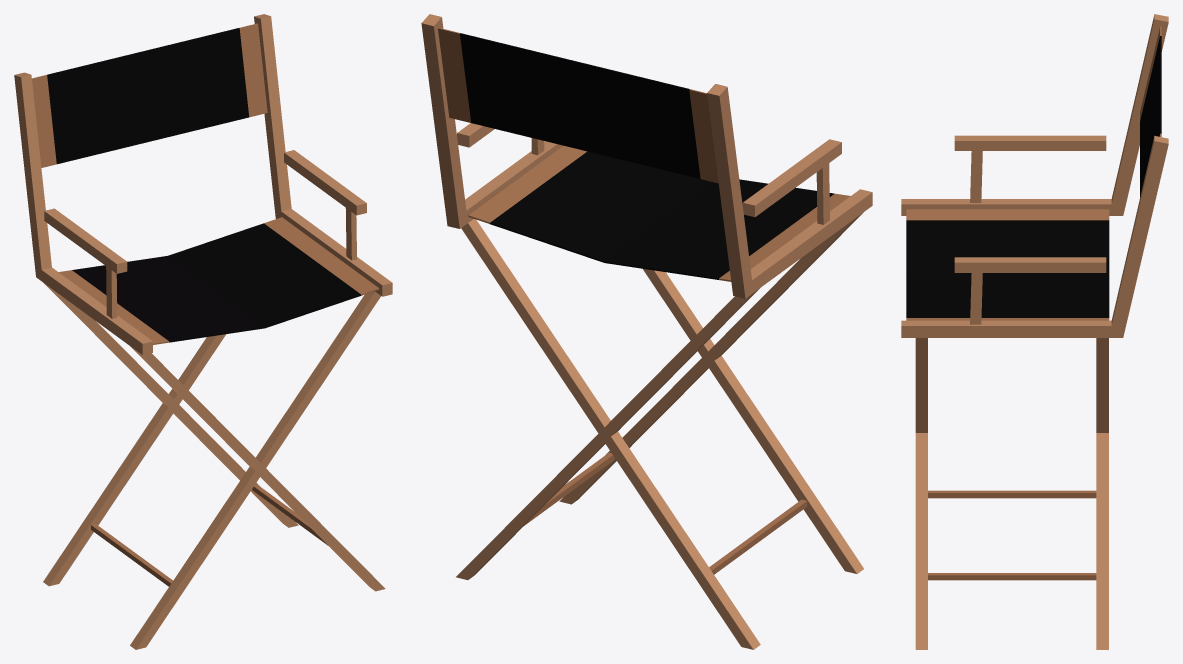
3 renders of one model, left to right at view 1: azimuth 30°, elevation 25°; view 2: azimuth 150°, elevation 25°; view 3: azimuth 270°, elevation 25°, orthographic. The views are drawn at different scales.
Parts seen in each view (by area): view 1: back_cloth.001, sling.002, sling.001, diagonal, diagonal.002, rear_post, diagonal.001, rear_post.001, diagonal.003, seat_rail, sling.003, back_cloth.002 (+8 smaller); view 2: back_cloth.001, sling.002, sling.001, diagonal.002, diagonal, diagonal.003, rear_post, diagonal.001, rear_post.001, seat_rail, sling.003, arm (+7 smaller); view 3: sling.001, sling.002, seat_rail.001, rear_post.001, diagonal.001, diagonal.003, rear_post, arm.001, sling, arm, seat_rail, back_cloth.001 (+7 smaller).
Boxes of the visible parts, x1,y1,x2,y2 form: back_cloth.001: (47,28,249,164); sling.002: (168,223,361,328); sling.001: (72,256,265,342); diagonal: (130,291,380,649); diagonal.002: (43,334,225,586); rear_post: (14,72,51,281); diagonal.001: (130,346,385,591); rear_post.001: (254,14,291,218); diagonal.003: (43,282,298,527); seat_rail: (41,267,152,354); sling.003: (264,217,379,295); back_cloth.002: (239,23,267,117); back_cloth.001: (460,33,700,178); sling.002: (490,151,712,262); sling.001: (604,179,834,279); diagonal.002: (461,219,760,649); diagonal: (643,269,863,573); diagonal.003: (456,288,759,579); rear_post: (707,84,753,298); diagonal.001: (559,212,863,504); rear_post.001: (421,14,467,228); seat_rail: (750,189,872,292); sling.003: (468,146,586,223); arm: (742,139,841,217); sling.001: (906,220,1109,278); sling.002: (906,278,1109,317); seat_rail.001: (901,320,1111,337); rear_post.001: (1109,136,1168,337); diagonal.001: (915,433,927,649); diagonal.003: (1096,433,1108,649); rear_post: (1109,14,1168,215); arm.001: (954,257,1106,272); sling: (906,209,1109,220); arm: (954,135,1106,150); seat_rail: (901,199,1111,215); back_cloth.001: (1140,36,1161,197).
Size of the model in its own units: 0.482 by 0.9 by 0.429.
